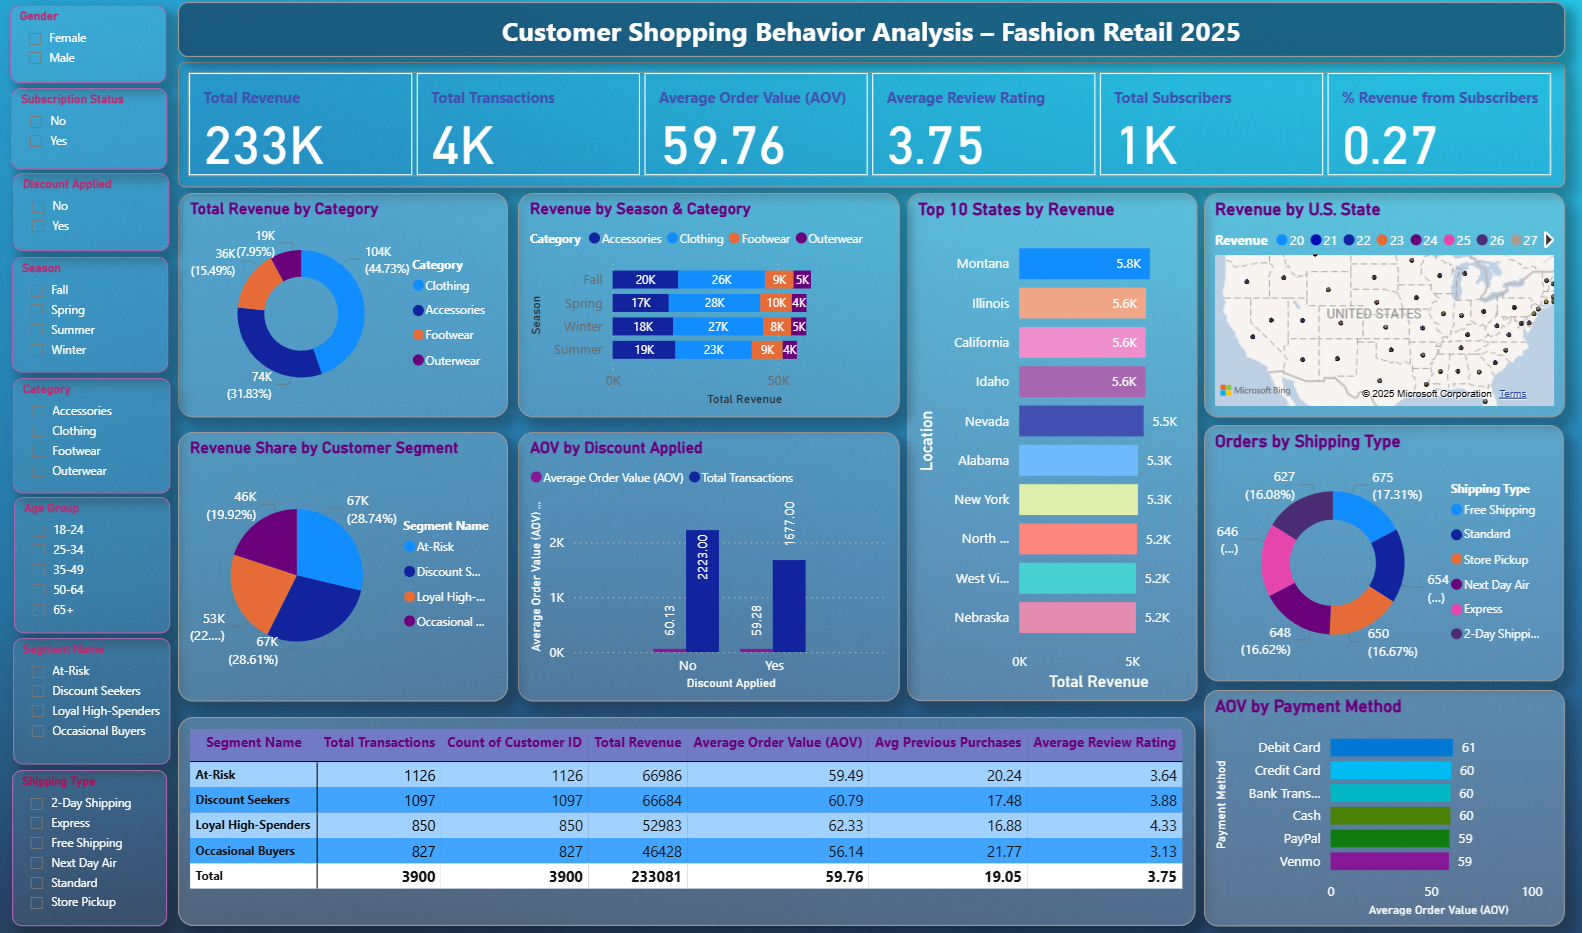

This screenshot's page, from the dashboard's own definition file:
{"tool":"powerbi","page":{"name":"Page 1","canvas":[1440,850],"ordinal":0},"visuals":[{"type":"cardVisual","fields":{"Data":["public customer_shopping_behavior.Total Revenue","public customer_shopping_behavior.Total Transactions","public customer_shopping_behavior.Average Order Value (AOV)","public customer_shopping_behavior.Average Review Rating","public customer_shopping_behavior.Total Subscribers","public customer_shopping_behavior.% Revenue from Subscribers"]},"box":[162.7,56.4,1260.9,113.6],"z":0},{"type":"donutChart","fields":{"Y":["public customer_shopping_behavior.Total Revenue"],"Category":["public customer_shopping_behavior.Category"]},"box":[162.7,175.5,300,203.6],"z":1000},{"type":"clusteredBarChart","title":"Top 10 States by Revenue","fields":{"Category":["public customer_shopping_behavior.Location"],"Y":["public customer_shopping_behavior.Total Revenue"]},"box":[825.5,175.5,263.6,461.8],"z":2000},{"type":"map","title":"Revenue by U.S. State","fields":{"Category":["public customer_shopping_behavior.Location"],"Series":["public customer_shopping_behavior.Revenue"]},"box":[1095,175,328,204],"z":3000},{"type":"slicer","title":"Gender","fields":{"Values":["public customer_shopping_behavior.Gender"]},"box":[10.5,4.4,142,70.6],"z":4000},{"type":"slicer","title":"Subscription Status","fields":{"Values":["public customer_shopping_behavior.Subscription Status"]},"box":[11.3,80.1,142,74],"z":5000},{"type":"slicer","title":"Discount Applied","fields":{"Values":["public customer_shopping_behavior.Discount Applied"]},"box":[13.1,157.7,142,71.4],"z":6000},{"type":"slicer","title":"Season","fields":{"Values":["public customer_shopping_behavior.Season"]},"box":[12.2,233.5,142,105.4],"z":7000},{"type":"slicer","title":"Category","fields":{"Values":["public customer_shopping_behavior.Category"]},"box":[13.1,343.2,142.9,104.5],"z":8000},{"type":"slicer","title":"Age Group","fields":{"Values":["public customer_shopping_behavior.Age Group"]},"box":[13.9,452.1,142,123.7],"z":9000},{"type":"slicer","title":"Segment Name","fields":{"Values":["public customer_shopping_behavior.Segment Name"]},"box":[13.1,580.2,142.9,115],"z":10000},{"type":"slicer","title":"Shipping Type","fields":{"Values":["public customer_shopping_behavior.Shipping Type"]},"box":[12.2,700.4,141.1,142],"z":11000},{"type":"clusteredColumnChart","title":"AOV by Discount Applied","fields":{"Category":["public customer_shopping_behavior.Discount Applied"],"Y":["public customer_shopping_behavior.Average Order Value (AOV)","public customer_shopping_behavior.Total Transactions"]},"box":[472.2,392.9,346.7,244.8],"z":12000},{"type":"barChart","title":"Revenue by Season & Category","fields":{"Category":["public customer_shopping_behavior.Season"],"Series":["public customer_shopping_behavior.Category"],"Y":["public customer_shopping_behavior.Total Revenue"]},"box":[471.8,175.5,347.3,203.6],"z":13000},{"type":"pieChart","title":"Revenue Share by Customer Segment","fields":{"Category":["public customer_shopping_behavior.Segment Name"],"Y":["public customer_shopping_behavior.Total Revenue"]},"box":[162.7,392.7,300,244.5],"z":14000},{"type":"pivotTable","fields":{"Rows":["public customer_shopping_behavior.Segment Name"],"Values":["public customer_shopping_behavior.Total Transactions","CountNonNull(public customer_shopping_behavior.Customer ID)","public customer_shopping_behavior.Total Revenue","public customer_shopping_behavior.Average Order Value (AOV)","public customer_shopping_behavior.Avg Previous Purchases","public customer_shopping_behavior.Average Review Rating"]},"box":[162.7,651.8,924.5,190],"z":15000},{"type":"donutChart","title":"Orders by Shipping Type","fields":{"Category":["public customer_shopping_behavior.Shipping Type"],"Y":["public customer_shopping_behavior.Total Transactions"]},"box":[1095.5,386.4,327.3,232.7],"z":16000},{"type":"clusteredBarChart","title":"AOV by Payment Method","fields":{"Category":["public customer_shopping_behavior.Payment Method"],"Y":["public customer_shopping_behavior.Average Order Value (AOV)"]},"box":[1095.5,627.3,328.2,215.5],"z":17000},{"type":"textbox","title":"Customer Shopping Behavior Analysis","box":[162.7,1.8,1260.9,50],"z":18000}]}

Visuals, with their boxes in screenshot pixels (x1, y1, x2, y2), scaled from the page's 1440x850 canvas onto the 1582x933 screenshot:
cardVisual - public customer_shopping_behavior.Total Revenue x public customer_shopping_behavior.Total Transactions: {"x1": 179, "y1": 62, "x2": 1564, "y2": 187}
donutChart - public customer_shopping_behavior.Total Revenue x public customer_shopping_behavior.Category: {"x1": 179, "y1": 193, "x2": 508, "y2": 416}
"Top 10 States by Revenue" clusteredBarChart: {"x1": 907, "y1": 193, "x2": 1196, "y2": 700}
"Revenue by U.S. State" map: {"x1": 1203, "y1": 192, "x2": 1563, "y2": 416}
"Gender" slicer: {"x1": 12, "y1": 5, "x2": 168, "y2": 82}
"Subscription Status" slicer: {"x1": 12, "y1": 88, "x2": 168, "y2": 169}
"Discount Applied" slicer: {"x1": 14, "y1": 173, "x2": 170, "y2": 251}
"Season" slicer: {"x1": 13, "y1": 256, "x2": 169, "y2": 372}
"Category" slicer: {"x1": 14, "y1": 377, "x2": 171, "y2": 491}
"Age Group" slicer: {"x1": 15, "y1": 496, "x2": 171, "y2": 632}
"Segment Name" slicer: {"x1": 14, "y1": 637, "x2": 171, "y2": 763}
"Shipping Type" slicer: {"x1": 13, "y1": 769, "x2": 168, "y2": 925}
"AOV by Discount Applied" clusteredColumnChart: {"x1": 519, "y1": 431, "x2": 900, "y2": 700}
"Revenue by Season & Category" barChart: {"x1": 518, "y1": 193, "x2": 900, "y2": 416}
"Revenue Share by Customer Segment" pieChart: {"x1": 179, "y1": 431, "x2": 508, "y2": 699}
pivotTable - public customer_shopping_behavior.Segment Name x public customer_shopping_behavior.Total Transactions: {"x1": 179, "y1": 715, "x2": 1194, "y2": 924}
"Orders by Shipping Type" donutChart: {"x1": 1204, "y1": 424, "x2": 1563, "y2": 680}
"AOV by Payment Method" clusteredBarChart: {"x1": 1204, "y1": 689, "x2": 1564, "y2": 925}
"Customer Shopping Behavior Analysis" textbox: {"x1": 179, "y1": 2, "x2": 1564, "y2": 57}
